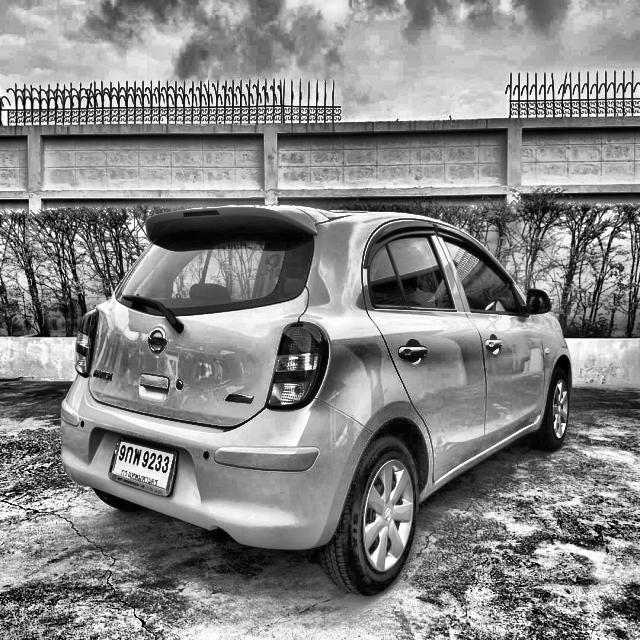license-plate: (107, 432, 180, 499)
